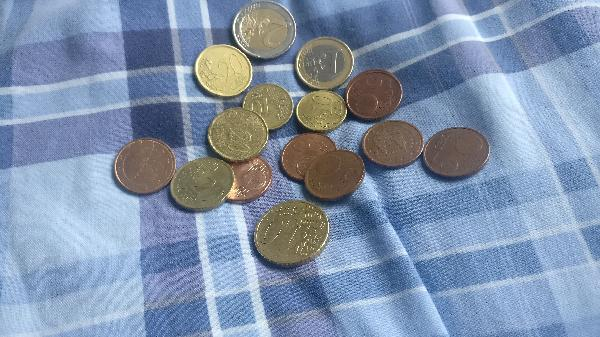Fifty Cent: (255, 196, 330, 262)
Five Cent: (422, 129, 495, 182), (111, 137, 177, 190), (306, 152, 369, 201), (363, 118, 424, 168), (281, 131, 337, 180), (347, 71, 402, 120), (222, 156, 273, 206)
One Euro: (298, 36, 356, 95)
Ten Cent: (242, 85, 295, 129), (296, 92, 351, 133)
Twenty Cent: (174, 156, 233, 214), (194, 41, 252, 95), (211, 108, 268, 161)
Two Euro: (232, 2, 297, 58)
